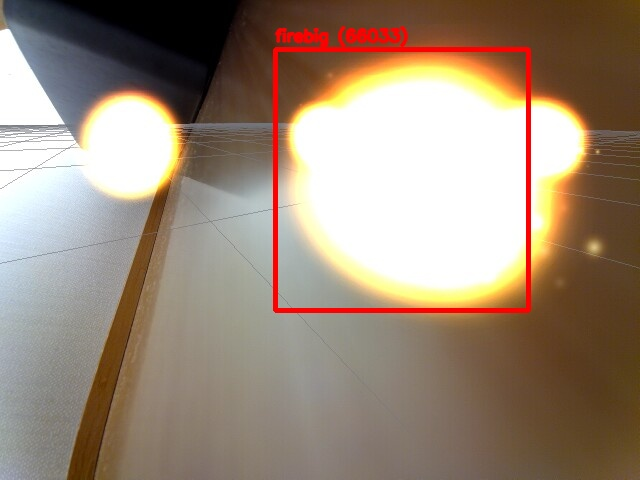firebig: (275, 49, 528, 310)
